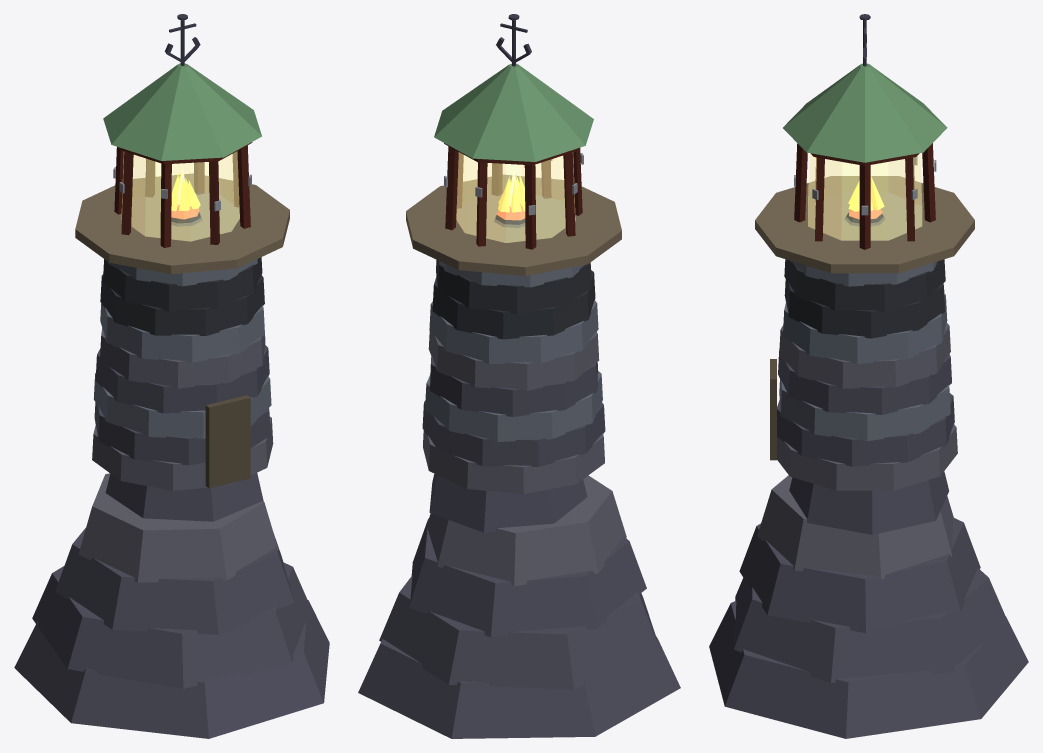
File: wrack_light_lit.glb
3 views of the same model, side by side, from view 1: azimuth 30°, elevation 25°; view 2: azimuth 150°, elevation 25°; view 3: azimuth 270°, elevation 25° (orthographic).
Visible parts, largest first — view 1: ink_l22, ink_l30, driftwood_d40, moss_l5, slate_d5, slate_d55, kindle_glow_horn30, coal_d55, driftwood_d55, ember_glow, ink_l15; view 2: ink_l22, ink_l30, driftwood_d40, slate_d5, moss_l5, slate_d55, kindle_glow_horn30, coal_d55, ember_glow, ink_l15; view 3: ink_l22, ink_l30, driftwood_d40, slate_d5, moss_l5, slate_d55, kindle_glow_horn30, coal_d55, driftwood_d55, ember_glow.
Boxes of the visible parts, x1,y1,x2,y2 form: ink_l22: (14, 345, 329, 738); ink_l30: (78, 327, 278, 582); driftwood_d40: (75, 173, 289, 274); moss_l5: (103, 63, 261, 160); slate_d5: (93, 259, 271, 438); slate_d55: (100, 257, 264, 335); kindle_glow_horn30: (121, 151, 239, 241); coal_d55: (114, 142, 252, 247); driftwood_d55: (205, 395, 250, 488); ember_glow: (171, 171, 200, 211); ink_l15: (164, 14, 200, 65); ink_l22: (358, 355, 680, 738); ink_l30: (423, 331, 626, 586); driftwood_d40: (406, 174, 621, 275); slate_d5: (425, 262, 602, 441); moss_l5: (434, 63, 593, 161); slate_d55: (432, 259, 595, 339); kindle_glow_horn30: (456, 152, 575, 242); coal_d55: (444, 143, 582, 249); ember_glow: (498, 173, 525, 212); ink_l15: (496, 14, 531, 66); ink_l22: (709, 348, 1028, 738); ink_l30: (757, 323, 957, 579); driftwood_d40: (755, 176, 974, 273); slate_d5: (779, 260, 950, 441); moss_l5: (783, 63, 947, 162); slate_d55: (784, 259, 945, 338); kindle_glow_horn30: (808, 153, 922, 240); coal_d55: (794, 143, 935, 249); driftwood_d55: (770, 359, 776, 460); ember_glow: (848, 175, 884, 211).
Bounding box in the file's own units: 4.65 × 10.51 × 4.65.
